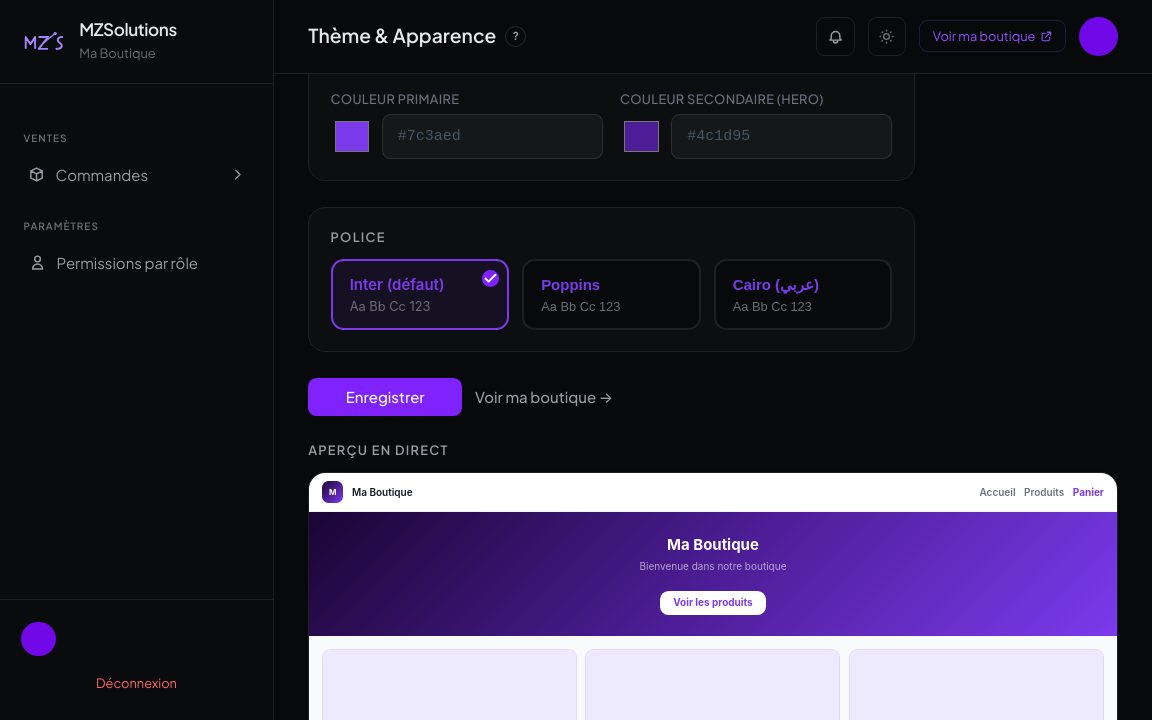
ThemePage › saves theme settings and shows a confirmation
This screenshot has width=1152, height=720.
(page scrolled)
Click the button "Enregistrer".
click(385, 397)  # box [308, 378, 462, 416]
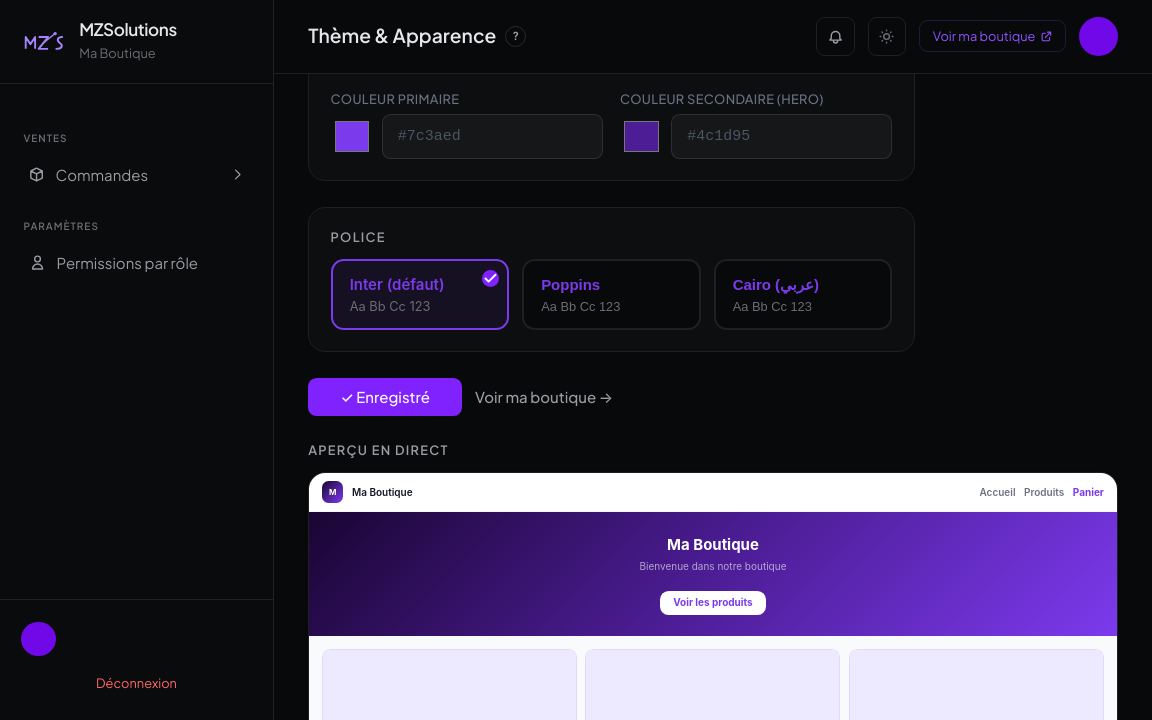
Expected: the button "✓ Enregistré" is shown, [308, 378, 462, 416]
